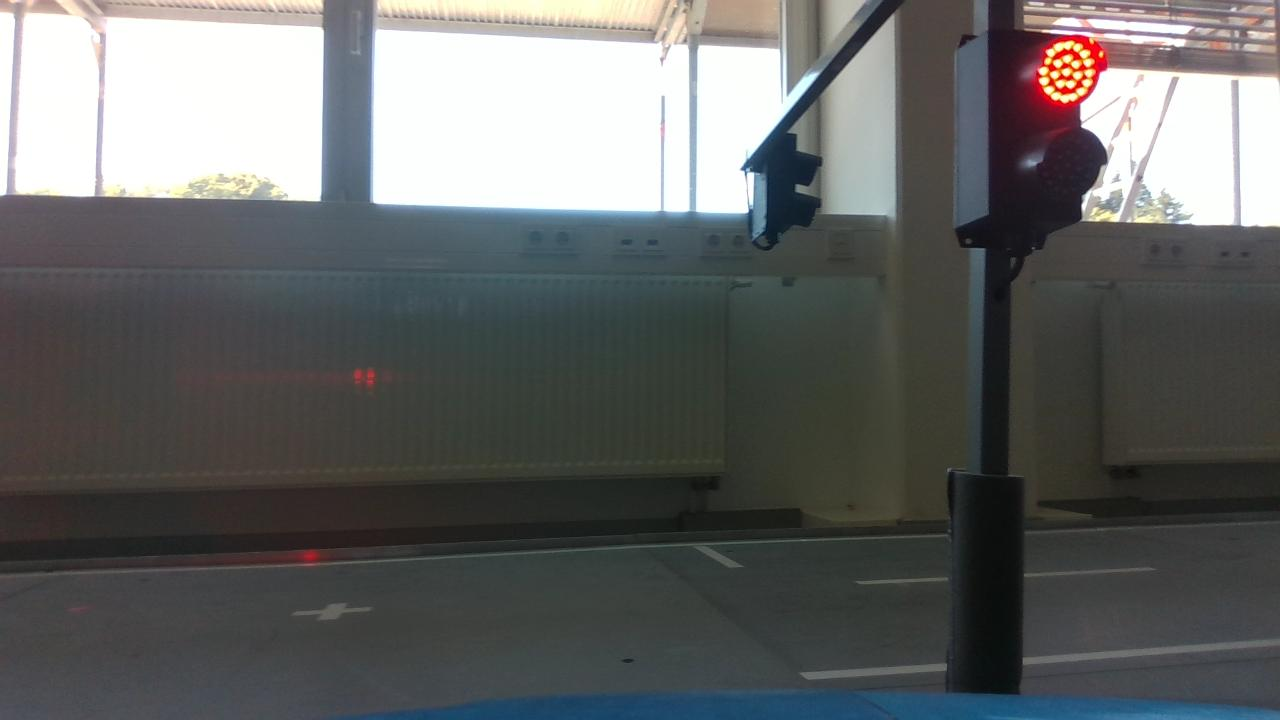traffic_light_red: (943, 22, 1131, 273)
